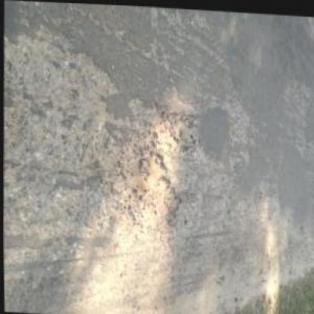Hueco: (119, 148, 182, 236), (144, 102, 198, 155)
